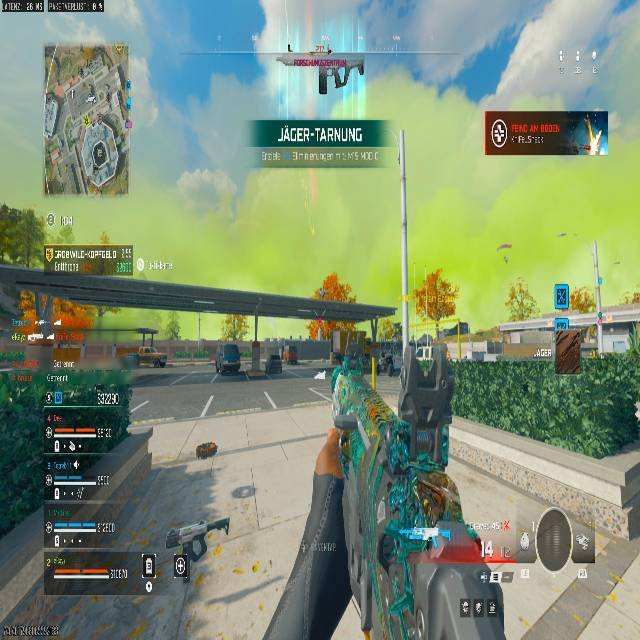player: (379, 351, 395, 375)
